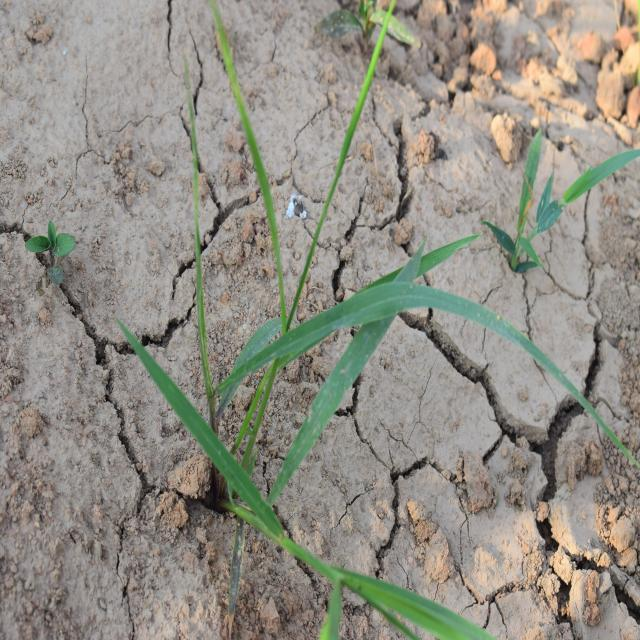green_foxtail: (144, 65, 440, 395)
